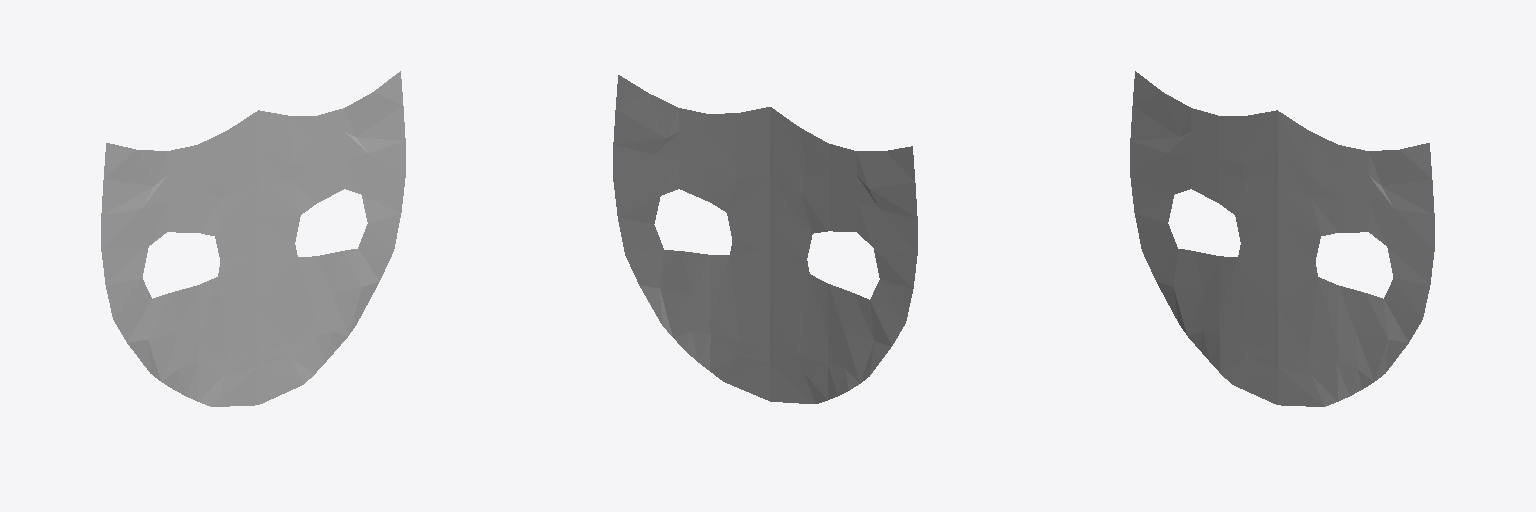
The model's file is Mask 2.obj.
The picture shows the model from 3 angles: view 1: azimuth 30°, elevation 25°; view 2: azimuth 150°, elevation 25°; view 3: azimuth 330°, elevation 25°; orthographic projection.
Parts seen in each view (by area): view 1: Plane; view 2: Plane; view 3: Plane.
Boxes of the visible parts, x1,y1,x2,y2 form: Plane: [101, 71, 405, 406]; Plane: [613, 75, 917, 403]; Plane: [1130, 71, 1434, 406].
Bounding box in the file's own units: 1.11 × 1.03 × 0.0313.